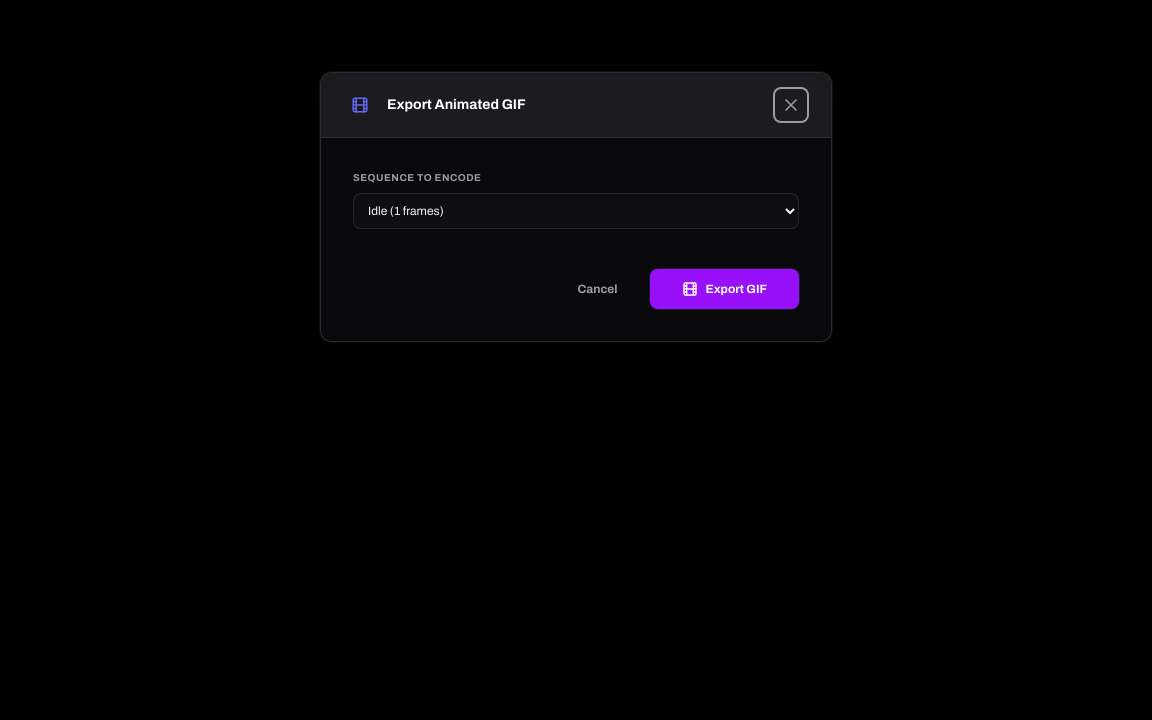
Test: ExportModal animation selection › keeps the GIF dialog open and reports an export failure
Click the button "Export GIF". click: (724, 289)
box: [650,269,799,309]
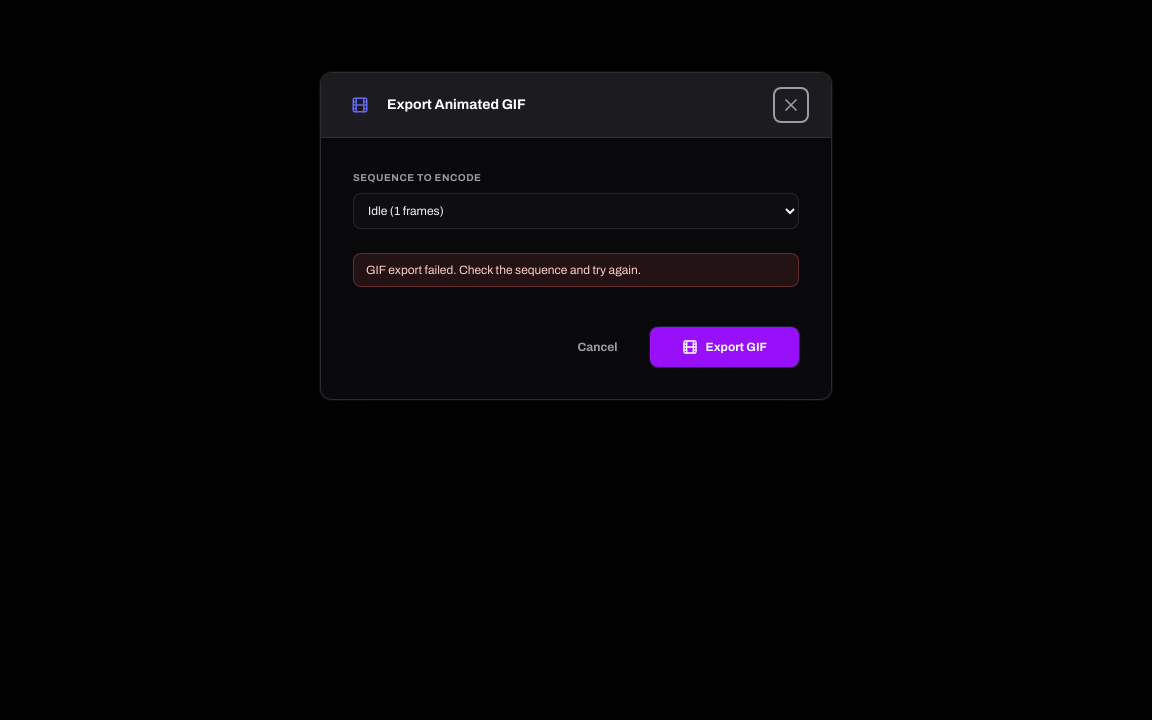
Expected: the dialog "Export Animated GIF" is shown, [320,72,832,400]
Expected: the message reads "GIF export failed. Check the sequence and try again.", [366,263,641,277]
